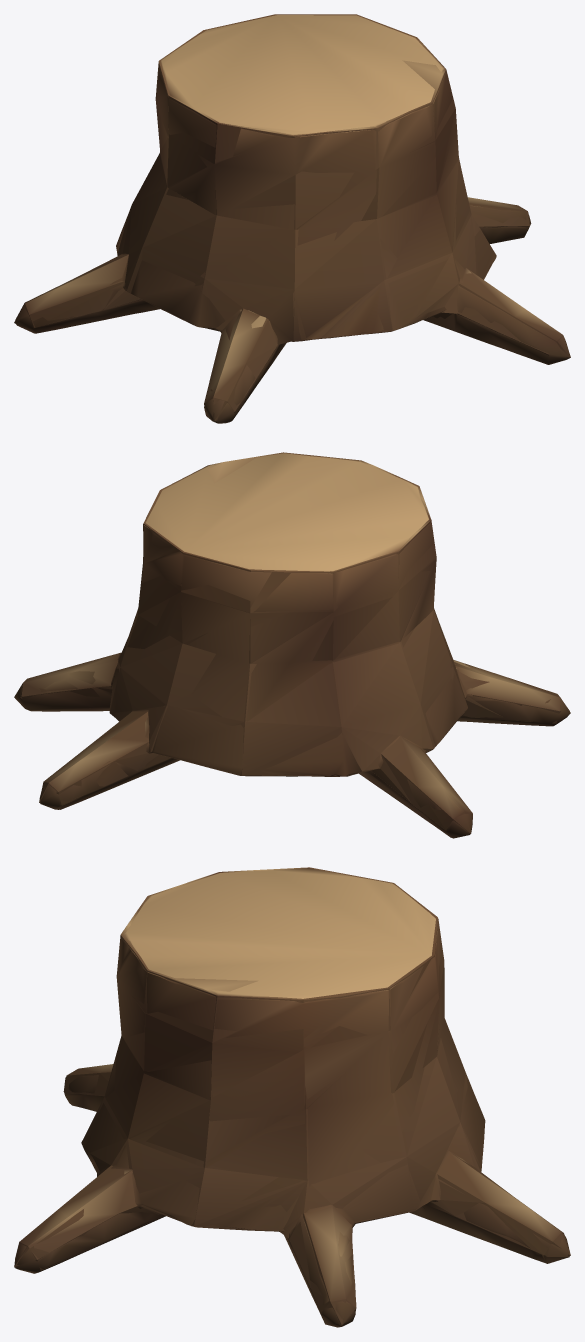
The model's file is stump_large.glb.
3 renders of one model, top to bottom at view 1: azimuth 30°, elevation 25°; view 2: azimuth 150°, elevation 25°; view 3: azimuth 270°, elevation 25°, orthographic. The views are drawn at different scales.
Visible parts, largest first — view 1: stump_large_LOD1, stump_large_LOD2; view 2: stump_large_LOD1, stump_large_LOD2; view 3: stump_large_LOD1, stump_large_LOD2.
Part boxes in pixels (x1,y1,x2,y2): stump_large_LOD1: [15, 15, 570, 423]; stump_large_LOD2: [14, 14, 570, 421]; stump_large_LOD1: [14, 453, 569, 838]; stump_large_LOD2: [14, 452, 570, 837]; stump_large_LOD1: [14, 868, 569, 1327]; stump_large_LOD2: [14, 867, 570, 1325].
Bounding box in the file's own units: 2.35 × 1.1 × 2.08.
